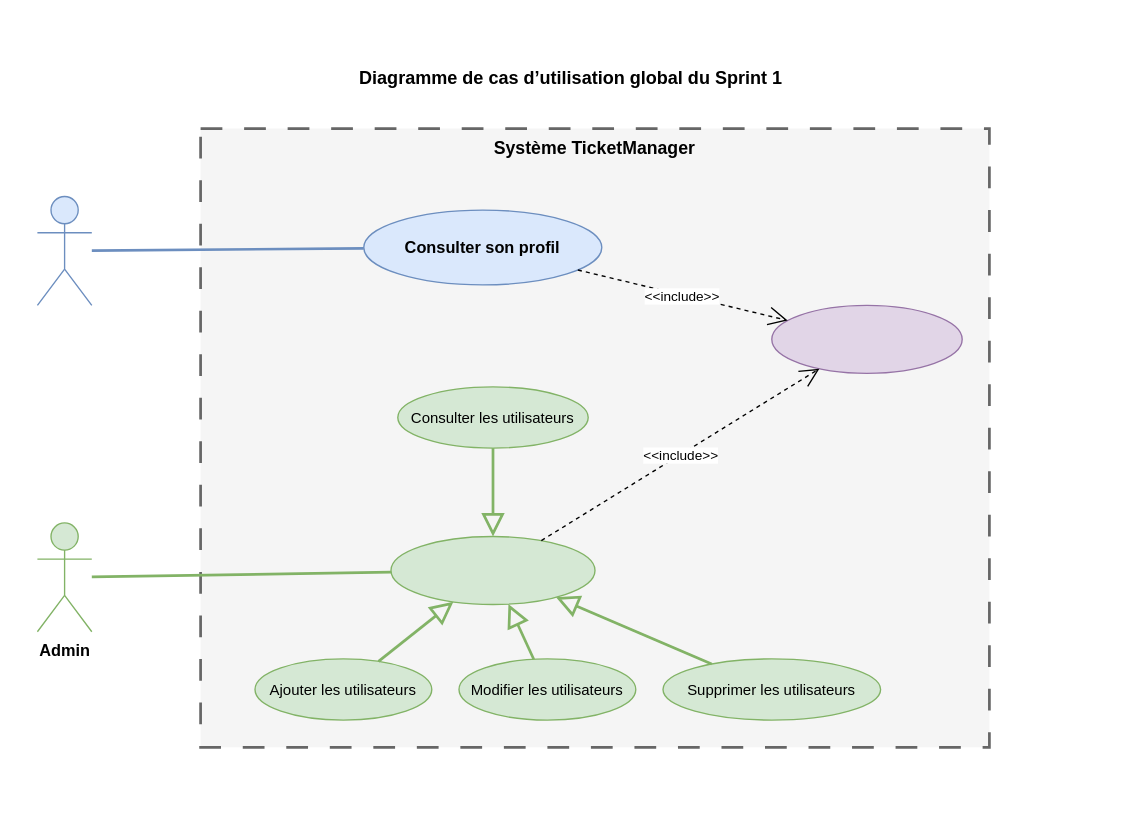
Some shapes in this 1121 by 835 pixel diagram are drawn without their labels. The centre of each missing label's shape, as x and y in pixels:
"Client" goes at [64,250].
"Gérer les utilisateurs" goes at [492,570].
"S'authentifier" goes at [866,338].
